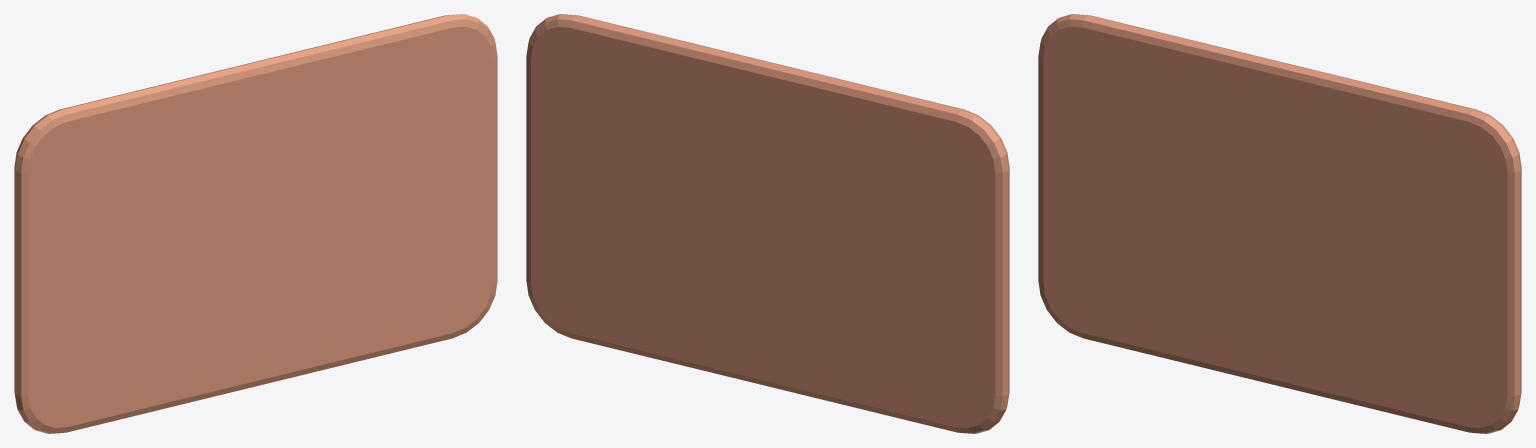
File: board.fbx
3 renders of one model, left to right at view 1: azimuth 30°, elevation 25°; view 2: azimuth 150°, elevation 25°; view 3: azimuth 330°, elevation 25°, orthographic.
Visible parts, largest first — view 1: 立方体; view 2: 立方体; view 3: 立方体.
Part boxes in pixels (x1,y1,x2,y2): 立方体: (14,14,497,433); 立方体: (526,14,1009,433); 立方体: (1038,14,1521,433).
Size of the model in its own units: 162 by 104 by 5.53.
